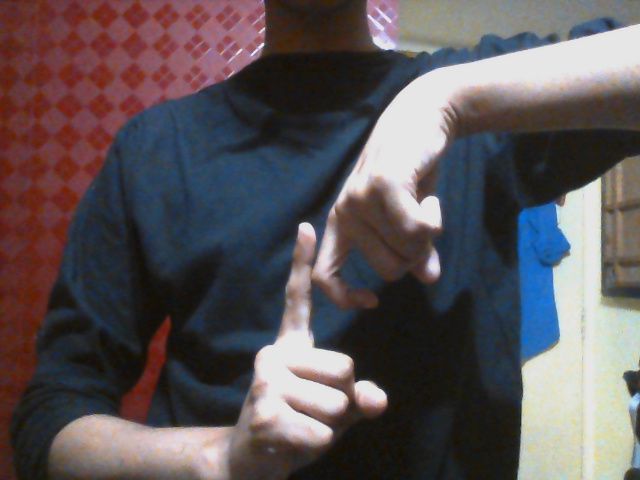K: (244, 153, 443, 471)
